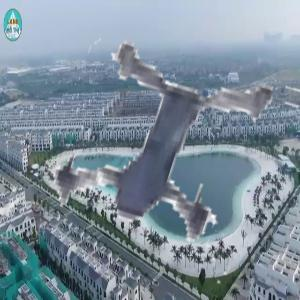drone: (21, 14, 300, 294)
